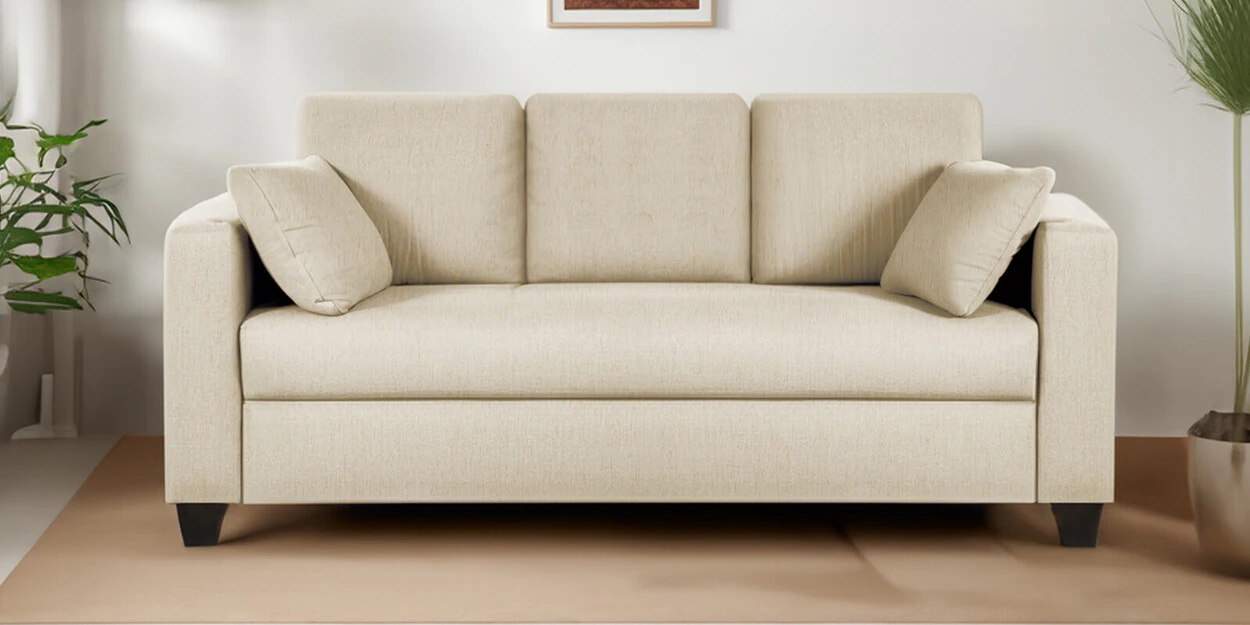3seatersofa: (164, 93, 1115, 546)
backrest: (298, 93, 982, 284)
base: (243, 401, 1035, 502)
leftarmrest: (1030, 194, 1116, 503)
leg: (0, 442, 1023, 499), (1051, 503, 1102, 546), (177, 504, 228, 546)
pillow: (882, 161, 1053, 315), (230, 155, 391, 314)
rightarmrest: (164, 194, 253, 502)
seat: (242, 283, 1038, 401)
